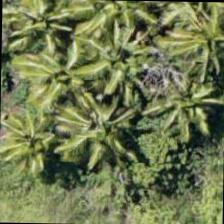Kelapa_Sawit: (76, 14, 168, 106), (42, 82, 134, 174), (7, 29, 98, 121), (139, 61, 223, 153), (0, 91, 79, 183), (1, 0, 85, 74), (1, 0, 87, 71), (152, 1, 223, 86), (75, 0, 167, 55)
